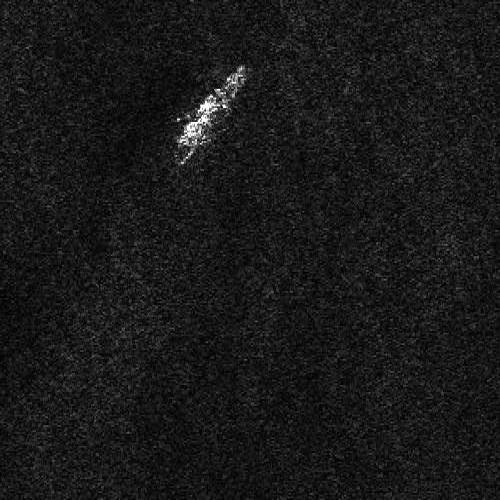ship: (177, 65, 255, 149)
